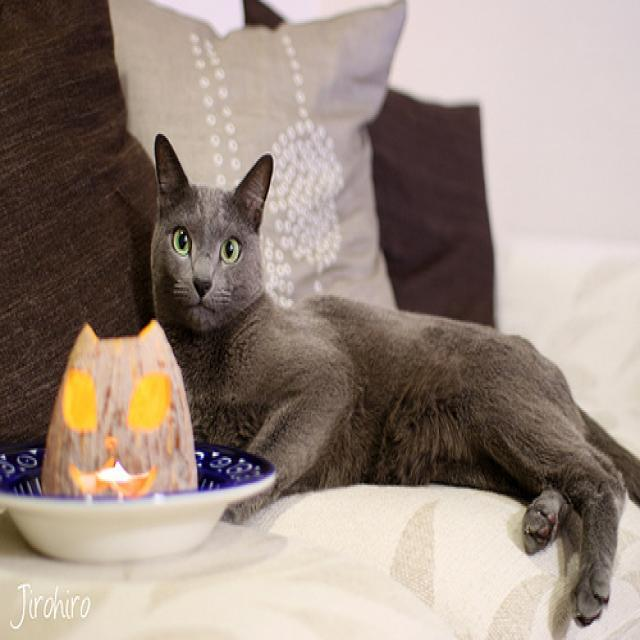Russian_Blue: (144, 125, 280, 335)
